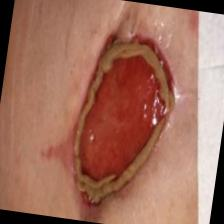orthopaedic-wounds: (52, 7, 194, 224)
